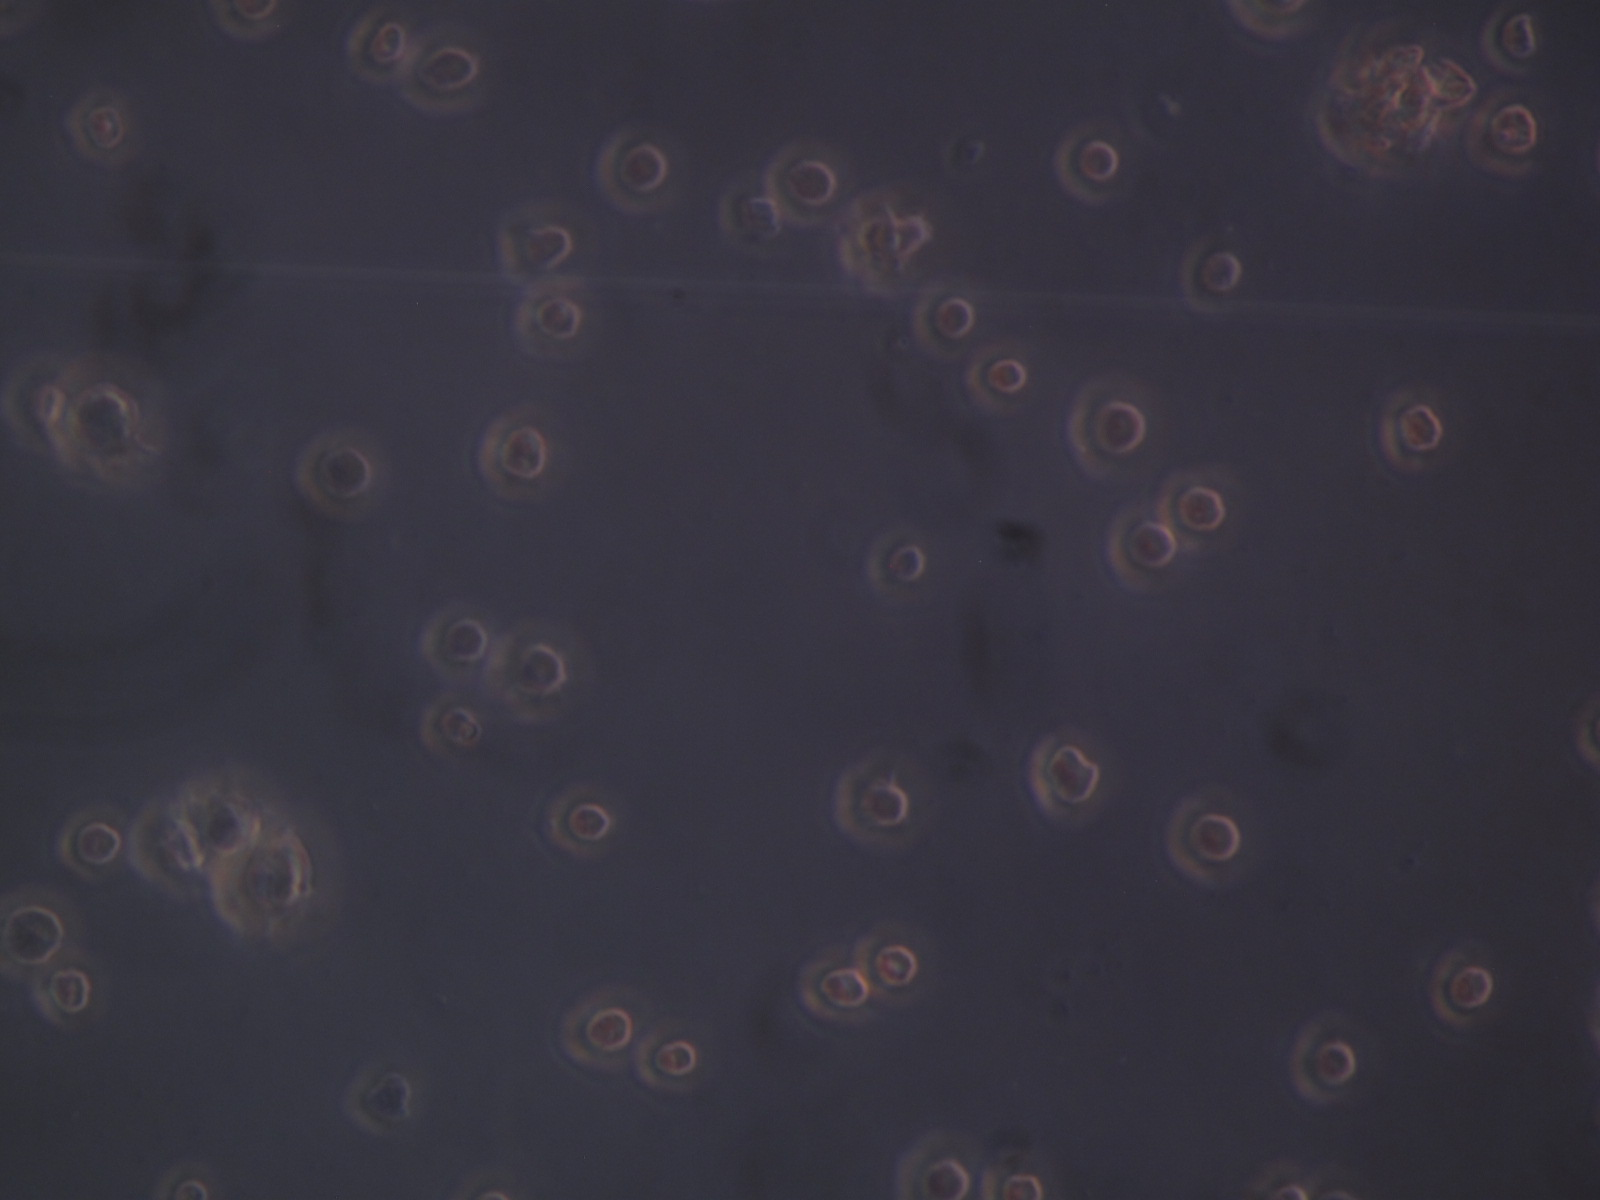hemo: (48, 353, 141, 471), (212, 839, 307, 937), (489, 620, 569, 722), (845, 192, 929, 286), (1062, 383, 1144, 479), (409, 16, 490, 113), (835, 760, 917, 852), (1027, 731, 1102, 829), (174, 775, 263, 857), (1, 885, 78, 977), (294, 434, 372, 522), (1167, 797, 1240, 889), (558, 992, 643, 1069), (1106, 505, 1180, 592), (495, 207, 574, 286), (597, 124, 666, 213), (1151, 473, 1226, 556), (1461, 100, 1537, 180), (716, 174, 789, 257), (1290, 1016, 1357, 1105), (765, 141, 837, 224), (511, 284, 582, 368), (341, 1058, 416, 1136), (1054, 125, 1123, 209), (134, 805, 205, 885), (855, 920, 921, 1007), (480, 418, 547, 503), (792, 955, 871, 1027), (1378, 386, 1441, 474), (344, 8, 420, 81), (896, 1129, 974, 1200), (420, 606, 488, 687), (905, 279, 973, 359), (1427, 949, 1494, 1030), (1177, 234, 1242, 315), (34, 950, 101, 1029), (67, 89, 129, 168), (59, 809, 122, 885), (542, 787, 611, 855), (420, 689, 483, 758), (635, 1029, 699, 1093), (1482, 6, 1540, 76), (964, 349, 1028, 411), (1228, 1, 1320, 39), (871, 531, 923, 594), (214, 1, 290, 39), (159, 1165, 220, 1200), (983, 1165, 1043, 1200)
